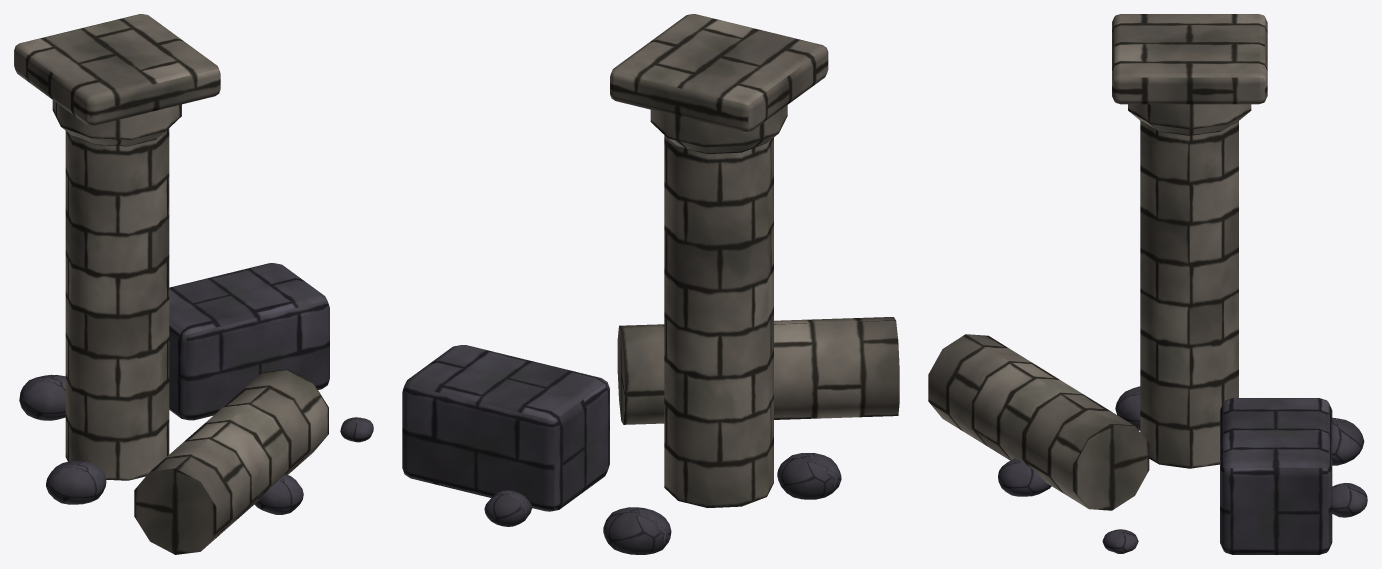
Rendered from ruin.glb.
The picture shows the model from 3 angles, left to right: view 1: azimuth 30°, elevation 25°; view 2: azimuth 150°, elevation 25°; view 3: azimuth 270°, elevation 25°; orthographic projection. The views are drawn at different scales.
Parts seen in each view (by area): view 1: Base; view 2: Base; view 3: Base.
Boxes of the visible parts, x1,y1,x2,y2 form: Base: (14, 14, 373, 554); Base: (402, 14, 899, 554); Base: (928, 14, 1367, 554).
Bounding box in the file's own units: 0.8588 × 1.06 × 1.02.
3 materials, 3 textured.
